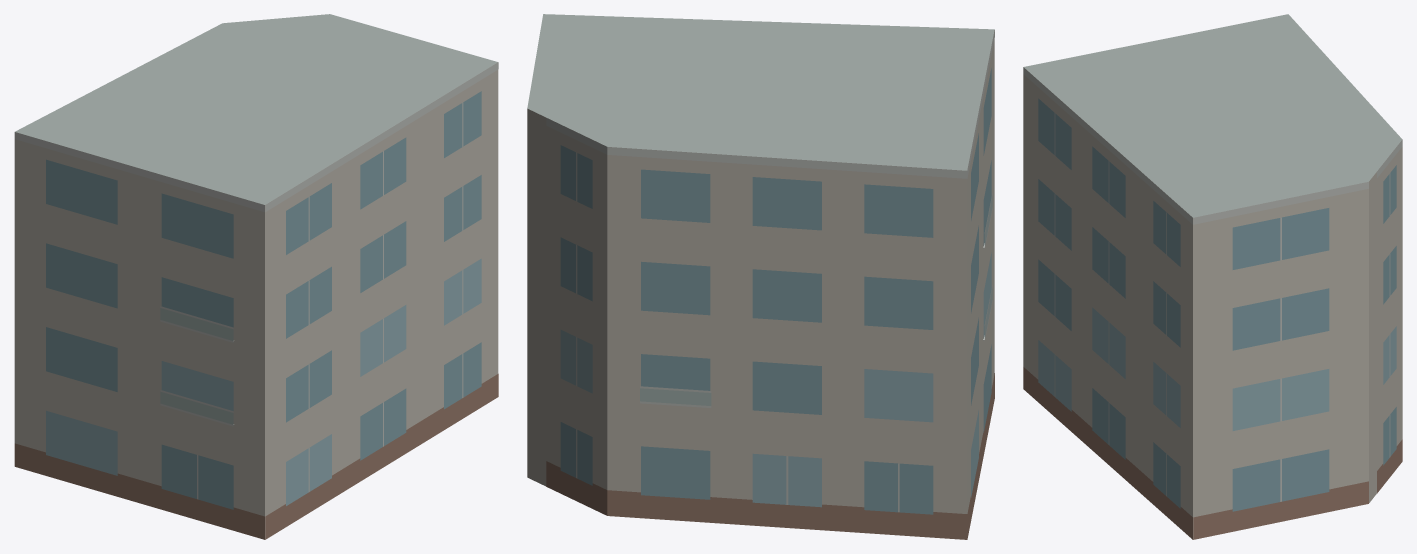
File: survey-upis-32730063.glb
3 renders of one model, left to right at view 1: azimuth 30°, elevation 25°; view 2: azimuth 150°, elevation 25°; view 3: azimuth 270°, elevation 25°, orthographic. The views are drawn at different scales.
Parts seen in each view (by area): view 1: survey-upis-32730063.tmp; view 2: survey-upis-32730063.tmp; view 3: survey-upis-32730063.tmp.
Part boxes in pixels (x1,y1,x2,y2): survey-upis-32730063.tmp: [14, 14, 498, 539]; survey-upis-32730063.tmp: [527, 14, 994, 539]; survey-upis-32730063.tmp: [1023, 14, 1402, 539].
Size of the model in its own units: 15.21 by 11.2 by 11.96.
